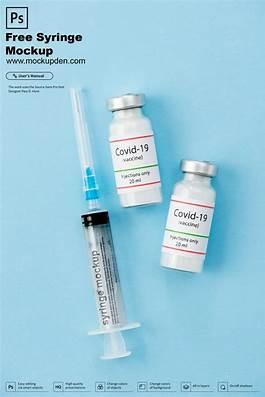Syringe: (62, 86, 143, 371), (104, 86, 168, 214), (160, 156, 218, 276)
